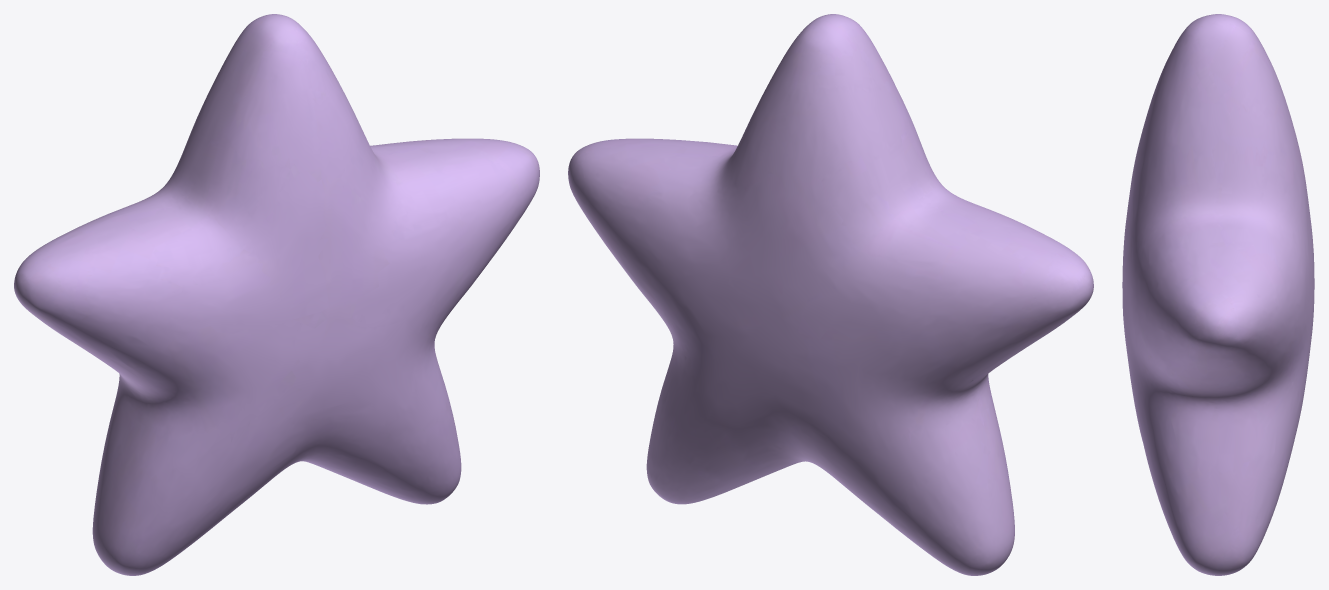
3 views of the same model, side by side, from view 1: azimuth 30°, elevation 25°; view 2: azimuth 150°, elevation 25°; view 3: azimuth 270°, elevation 25° (orthographic). The views are drawn at different scales.
Bounding box in the file's own units: 1.9 × 1.82 × 0.6483.
Materials: 1 (1 with a texture image).
